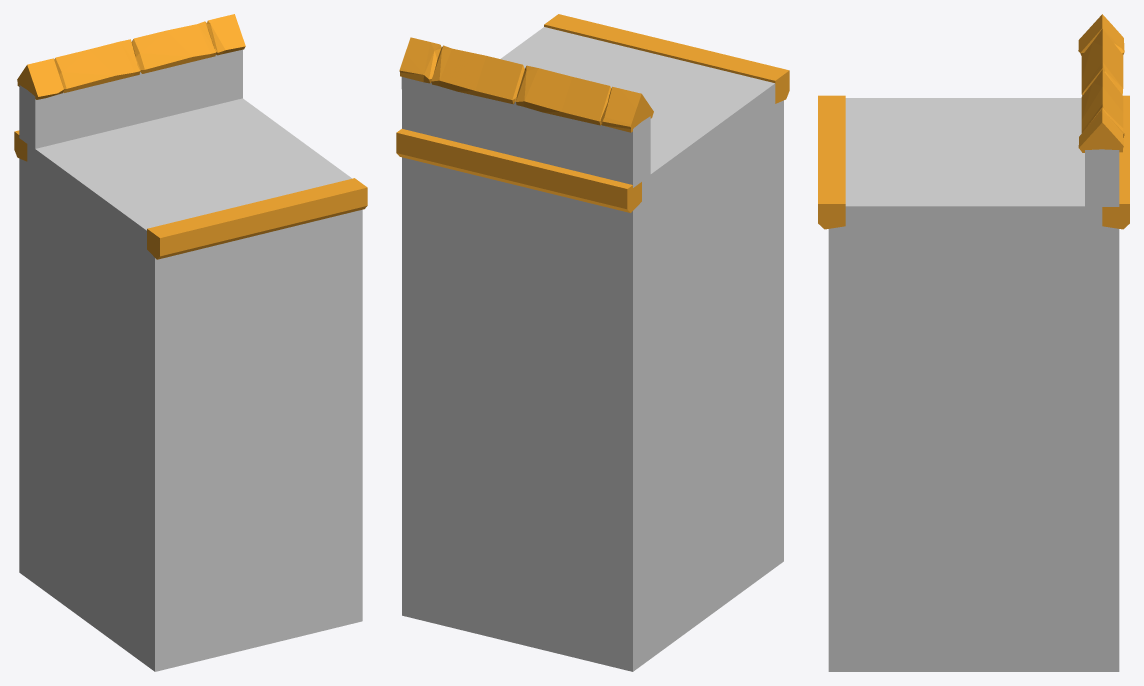
The model's file is SM_Rampart_3x6m_Walk_Back_Fantasy.fbx.
3 renders of one model, left to right at view 1: azimuth 30°, elevation 25°; view 2: azimuth 150°, elevation 25°; view 3: azimuth 270°, elevation 25°, orthographic. The views are drawn at different scales.
Visible parts, largest first — view 1: SM_Rampart_3x6m_Walk_Back_Fantasy; view 2: SM_Rampart_3x6m_Walk_Back_Fantasy; view 3: SM_Rampart_3x6m_Walk_Back_Fantasy.
Part boxes in pixels (<box>): SM_Rampart_3x6m_Walk_Back_Fantasy: <box>14,14,367,671</box>; SM_Rampart_3x6m_Walk_Back_Fantasy: <box>396,14,789,671</box>; SM_Rampart_3x6m_Walk_Back_Fantasy: <box>818,14,1129,671</box>.
Size of the model in its own units: 3 by 7.1 by 3.65.
